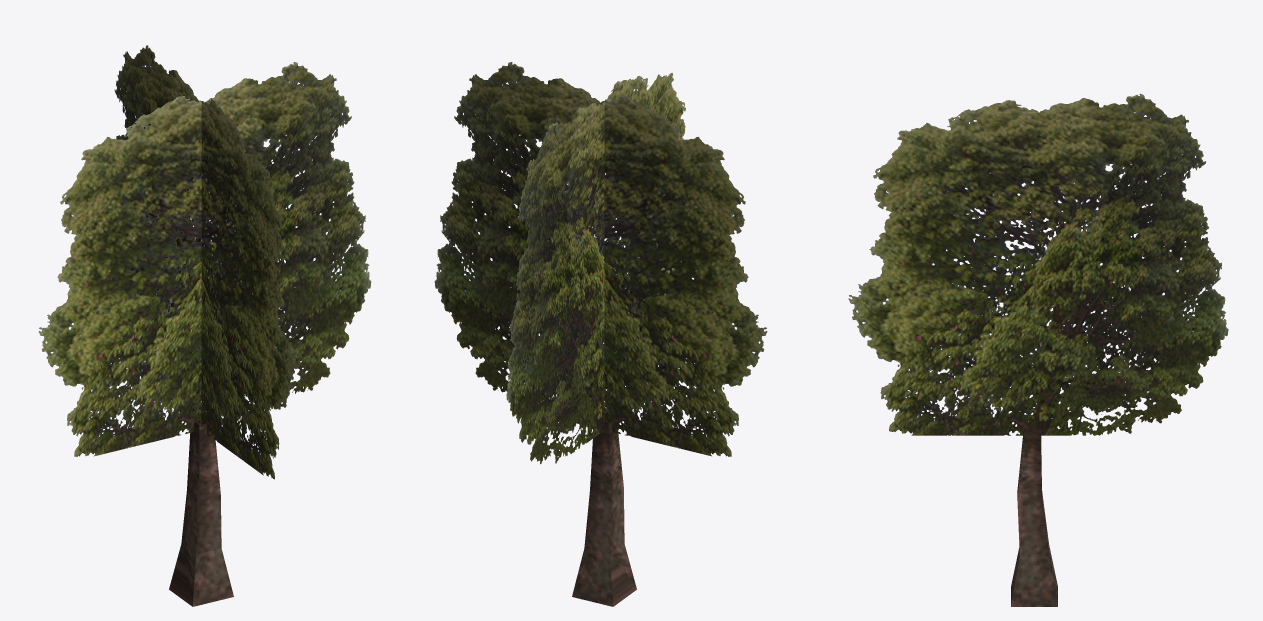
File: MESH_Tree_05.fbx
The picture shows the model from 3 angles, left to right: view 1: azimuth 30°, elevation 25°; view 2: azimuth 150°, elevation 25°; view 3: azimuth 270°, elevation 25°; orthographic projection.
Visible parts, largest first — view 1: MESH_Tree_05; view 2: MESH_Tree_05; view 3: MESH_Tree_05.
Part boxes in pixels (box(x1,y1,x2,y2)): MESH_Tree_05: box(38, 45, 371, 606); MESH_Tree_05: box(434, 62, 767, 606); MESH_Tree_05: box(848, 93, 1228, 606).
Size of the model in its own units: 9.14 by 12 by 9.14.
